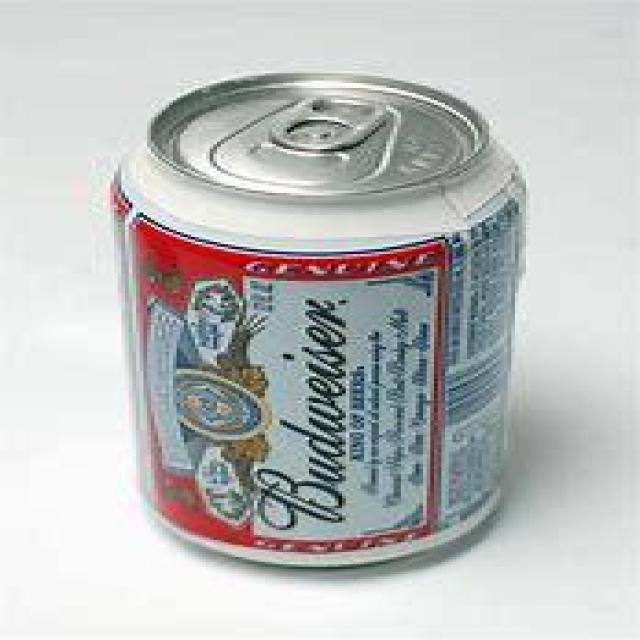can: (103, 71, 531, 572)
pop tab: (265, 93, 386, 152)
